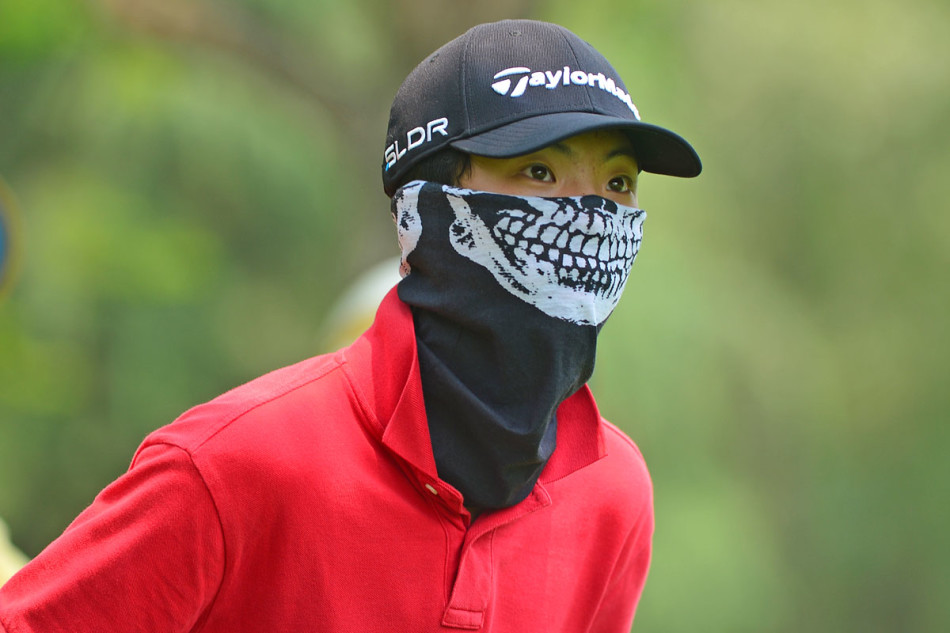face_mask: (464, 106, 650, 339)
